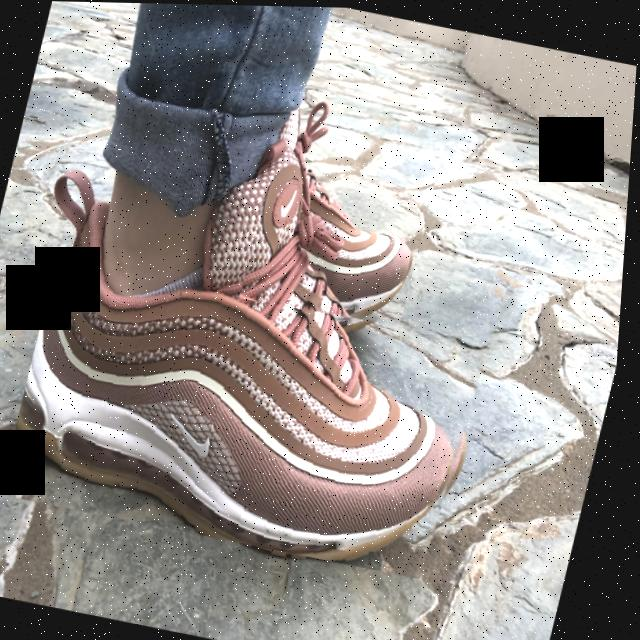shoe: (2, 180, 519, 581), (242, 108, 448, 328)
